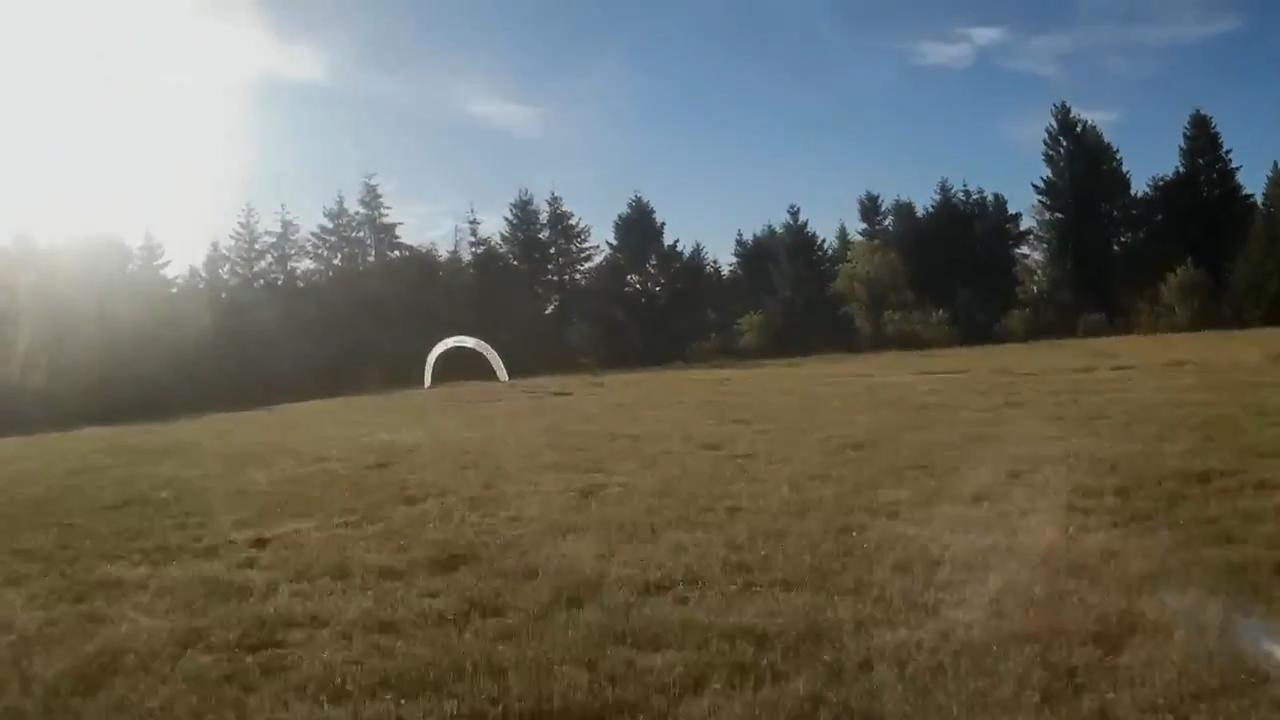gate: (422, 335, 510, 389)
